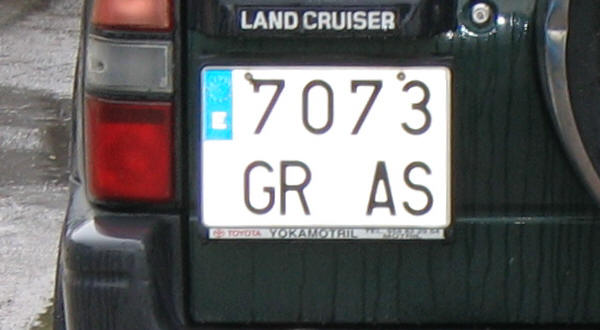license_plate: (198, 65, 454, 228)
